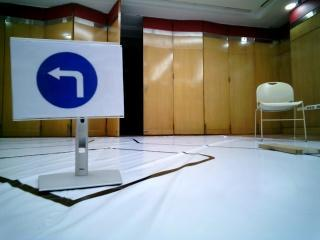left: (22, 41, 121, 118)
